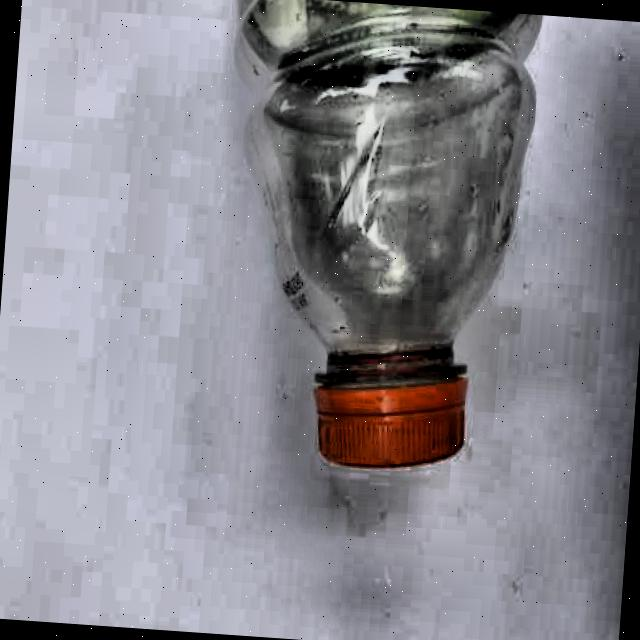plastic: (199, 0, 541, 478)
